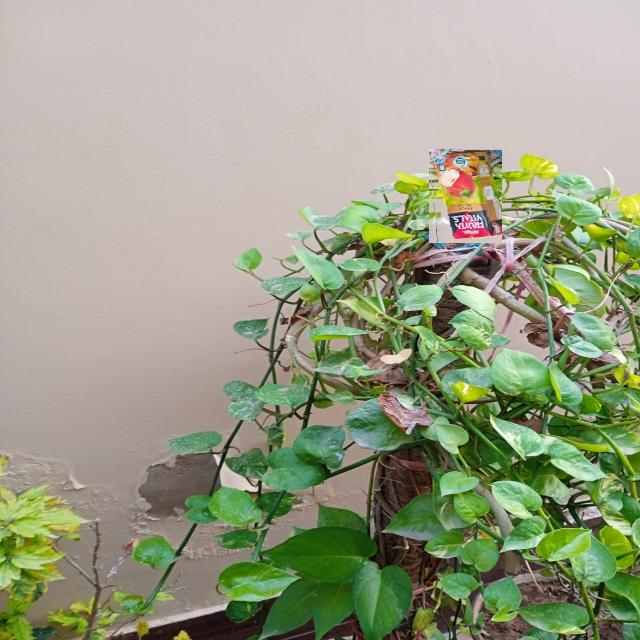Plastic: (428, 148, 502, 243)
